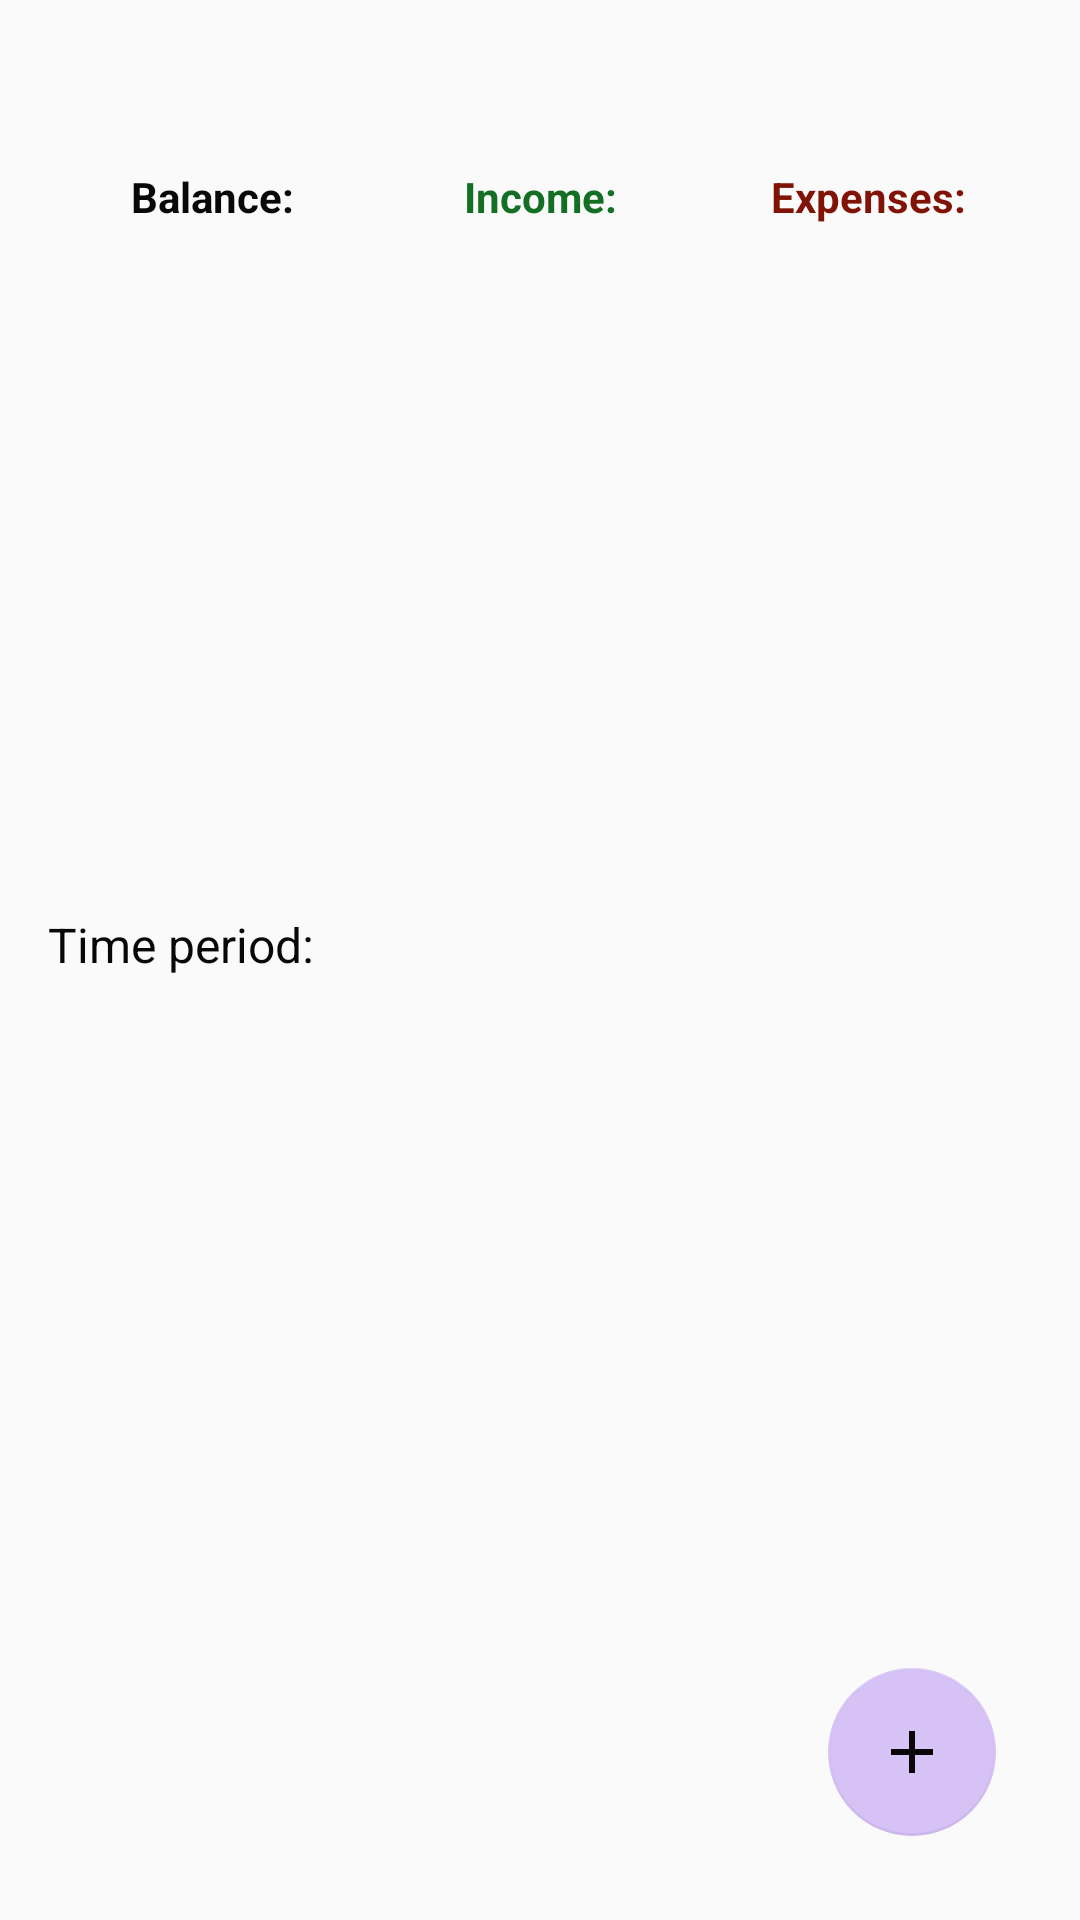

Icon bounding boxes for this 1080×1920 phone screenshot, format region(x1, y1, x2, y2):
Add Transaction: region(828, 1668, 996, 1836)
